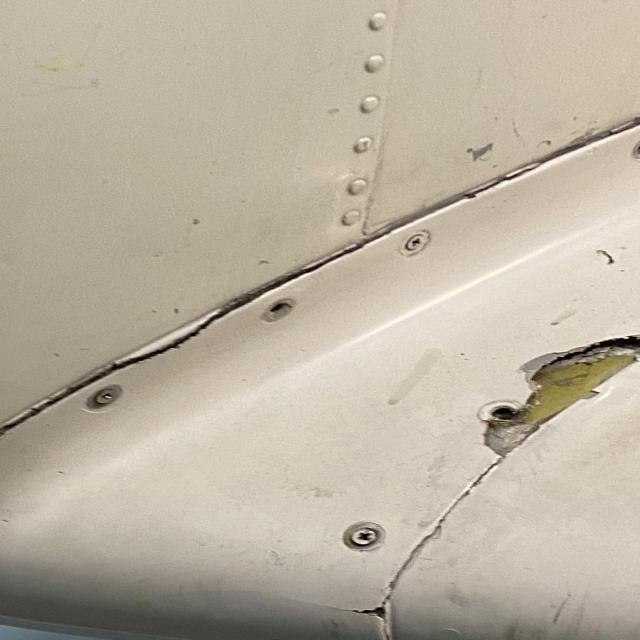Crack: (486, 337, 640, 456), (117, 306, 241, 368), (351, 587, 393, 640), (0, 421, 20, 445)
Missing-head: (263, 299, 297, 322)
Paint-off: (244, 254, 288, 270), (469, 142, 497, 161)
